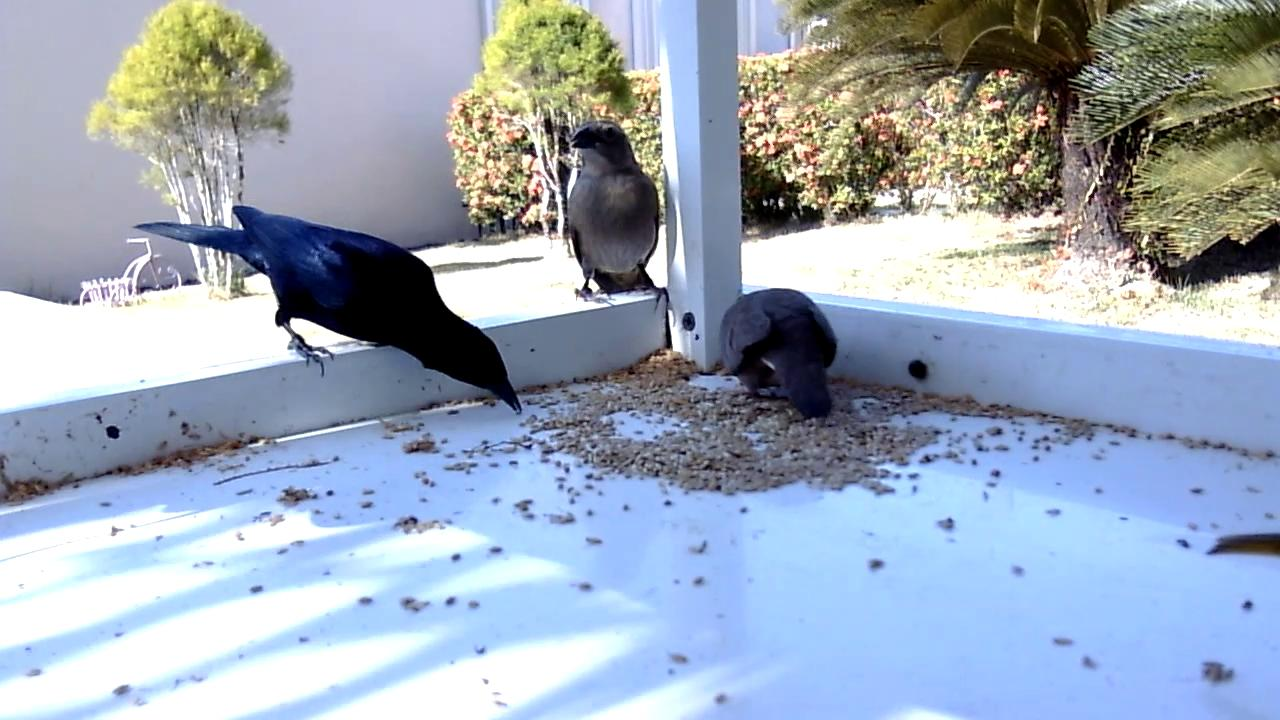chupim: (131, 204, 525, 417), (566, 120, 670, 317)
rolinha: (717, 286, 841, 422)
